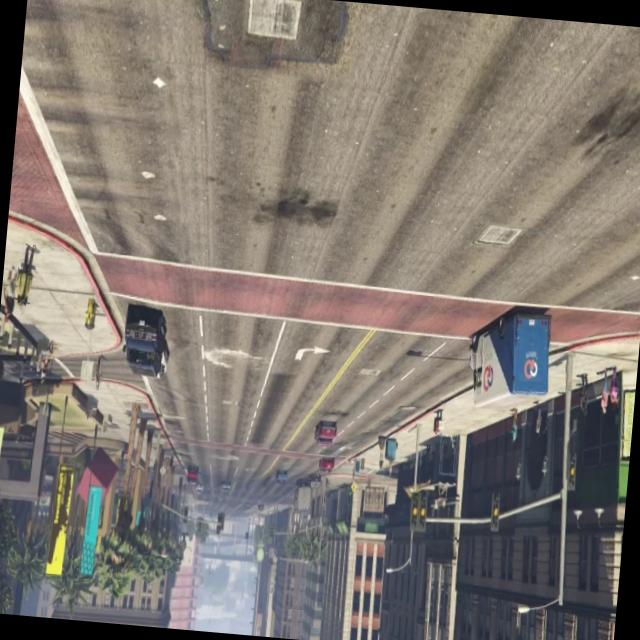Yellow-Signal: (406, 478, 435, 534), (487, 469, 508, 542), (562, 444, 584, 504)
